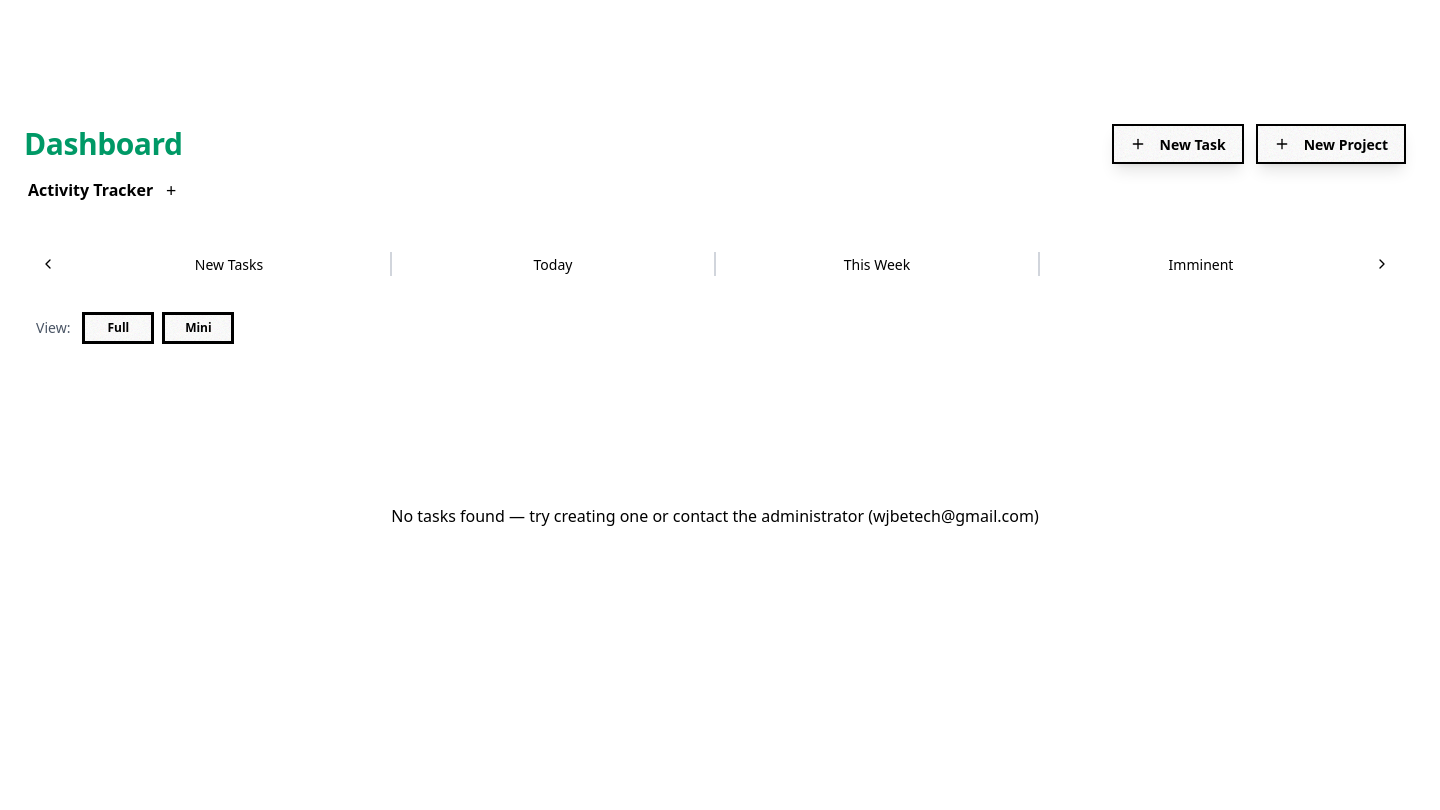
Test case: Dashboard modals › opens Add New Project modal when New Project clicked and shows new project input and Create task toggle
Click the button "New Project": [1331, 144] box top-left (1256, 124), bottom-right (1406, 164)
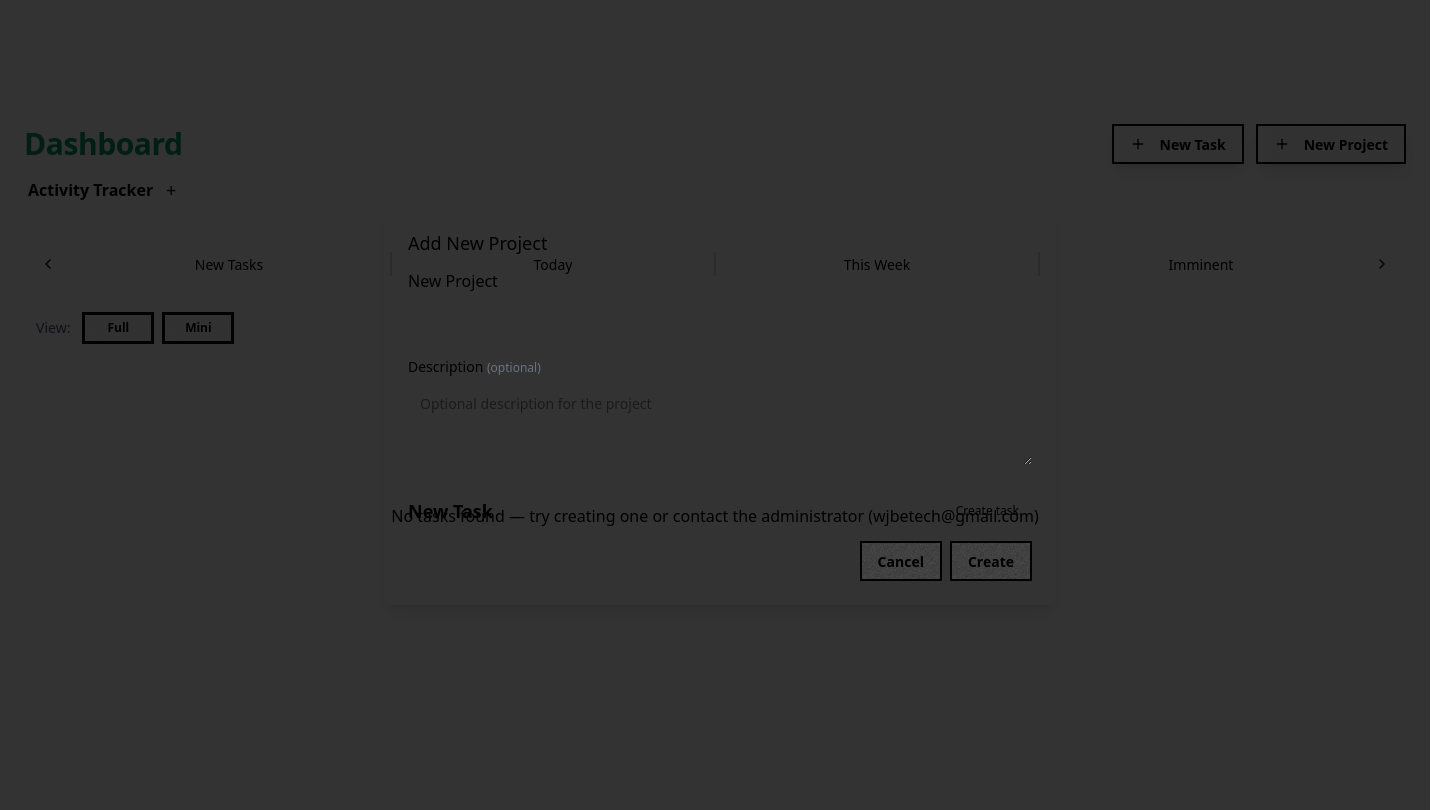
Now the heading "Add New Project" is shown, box top-left (408, 231), bottom-right (547, 255)
Now the form "Add New Project" is shown, box top-left (384, 205), bottom-right (1056, 605)
Now the checkbox labelled "Create task" is shown, box top-left (1027, 501), bottom-right (1032, 521)
